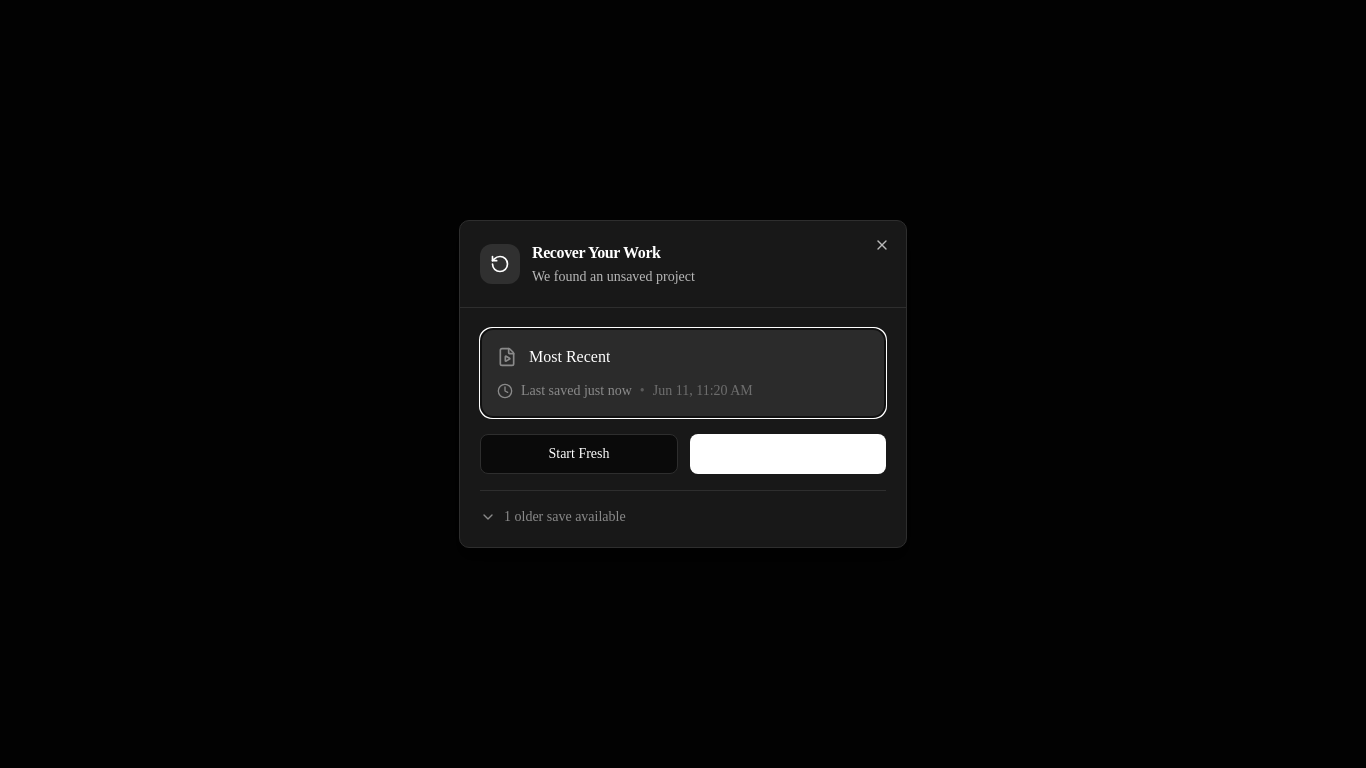
Test case: RecoveryDialog › expands older saves when toggle is clicked
Click the button "1 older save available": (553, 517) [480,507,626,527]
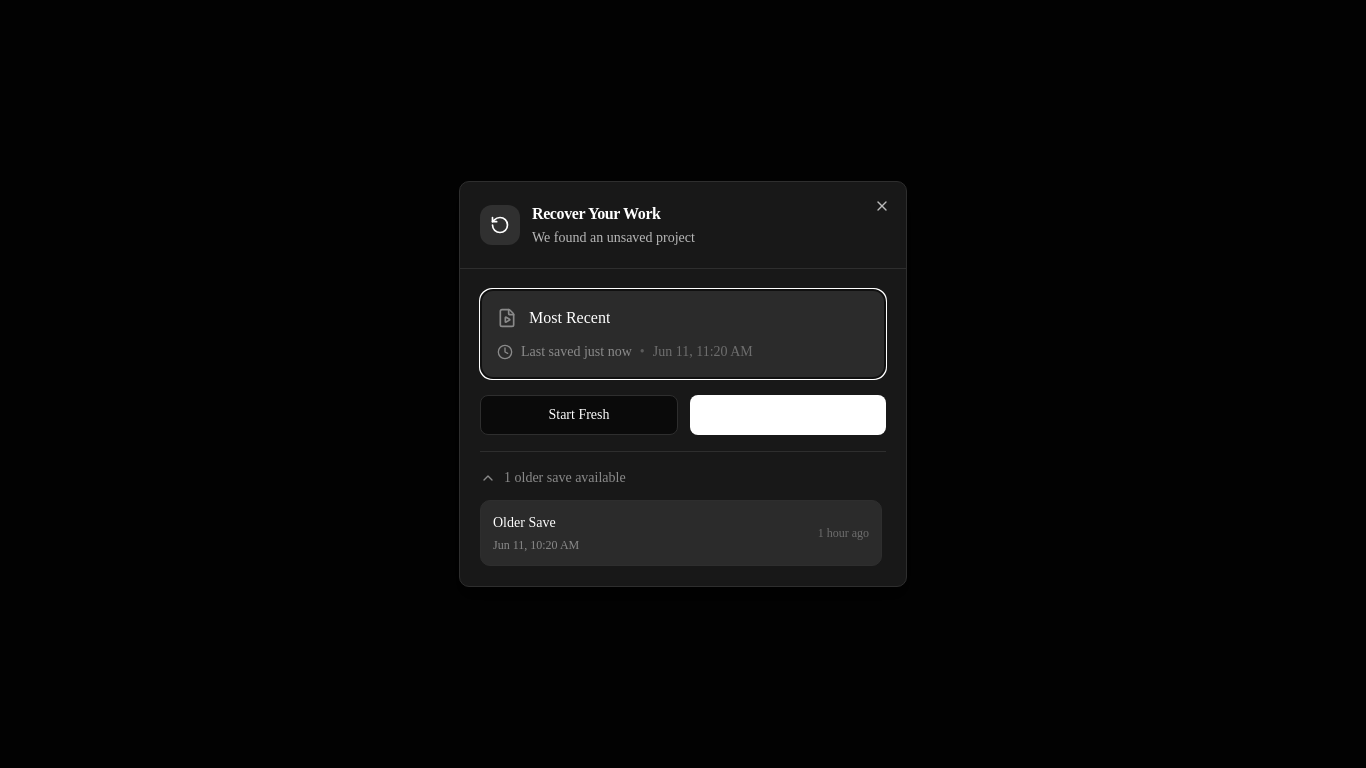
Expected: the text "Older Save" is shown, [493,515,556,530]
